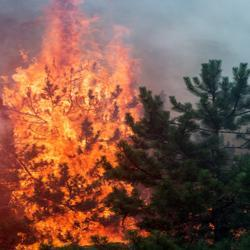fire: (19, 69, 131, 201), (38, 208, 115, 241), (50, 9, 84, 65)
